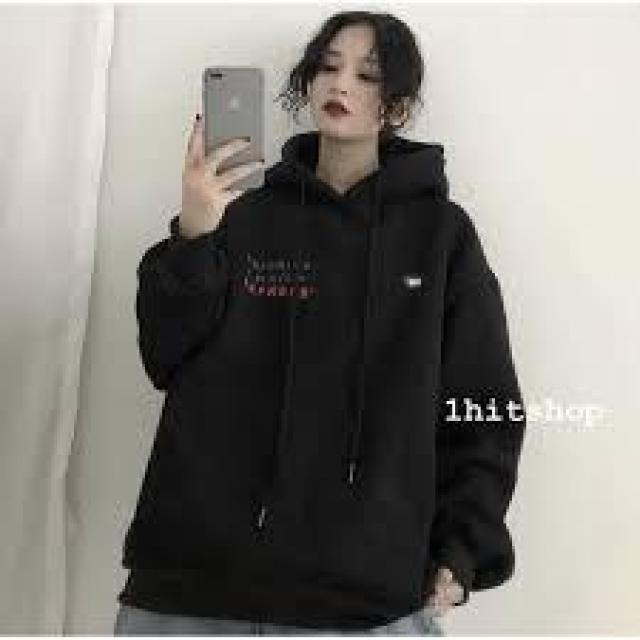sweater: (145, 138, 515, 616)
